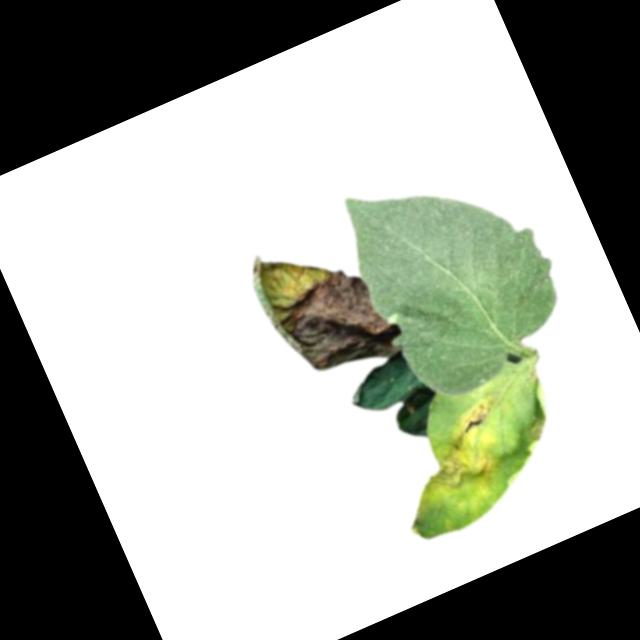Late_blight: (240, 213, 409, 397), (400, 393, 523, 508), (514, 413, 558, 456)
healthy: (328, 131, 587, 412)
